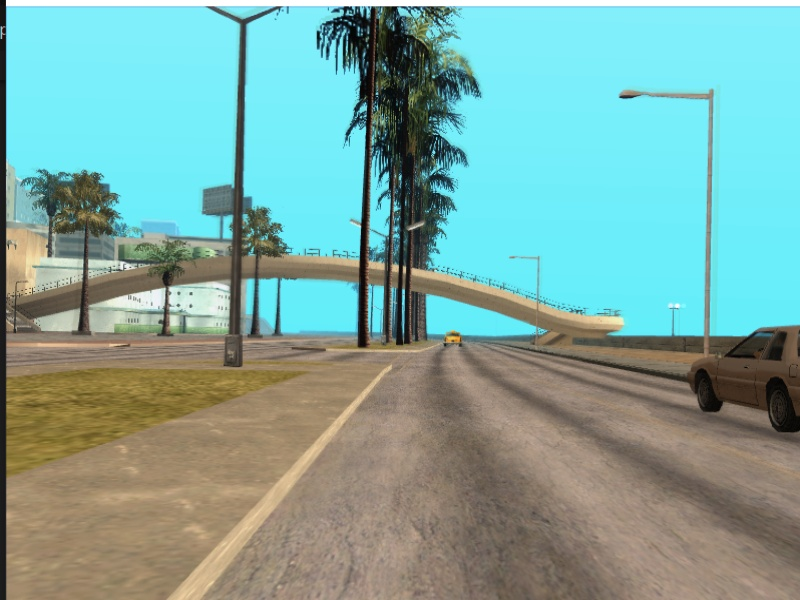pole: (229, 16, 250, 371), (702, 88, 715, 356), (533, 251, 544, 352)
tree: (358, 26, 373, 346), (384, 64, 396, 346), (79, 220, 95, 338), (408, 92, 415, 347), (158, 264, 177, 341), (271, 277, 287, 339), (253, 246, 263, 335)
vehicle: (687, 304, 800, 432), (440, 329, 466, 351)
